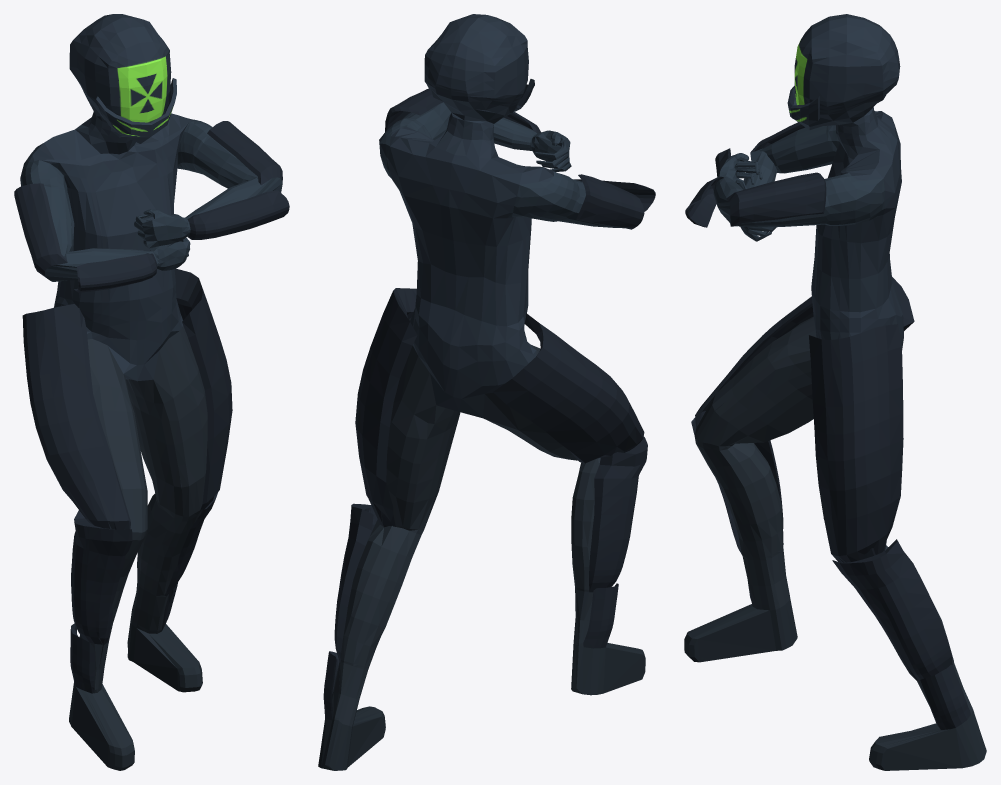
Rendered from Bastion_WF_000020.obj.
3 renders of one model, left to right at view 1: azimuth 30°, elevation 25°; view 2: azimuth 150°, elevation 25°; view 3: azimuth 270°, elevation 25°, orthographic. The views are drawn at different scales.
Parts seen in each view (by area): view 1: Cube.002; view 2: Cube.002; view 3: Cube.002.
Boxes of the visible parts, bbox=[...] form: Cube.002: bbox=[14, 14, 289, 770]; Cube.002: bbox=[318, 14, 655, 770]; Cube.002: bbox=[684, 14, 986, 770].
Size of the model in its own units: 1.32 by 3.75 by 1.45.
